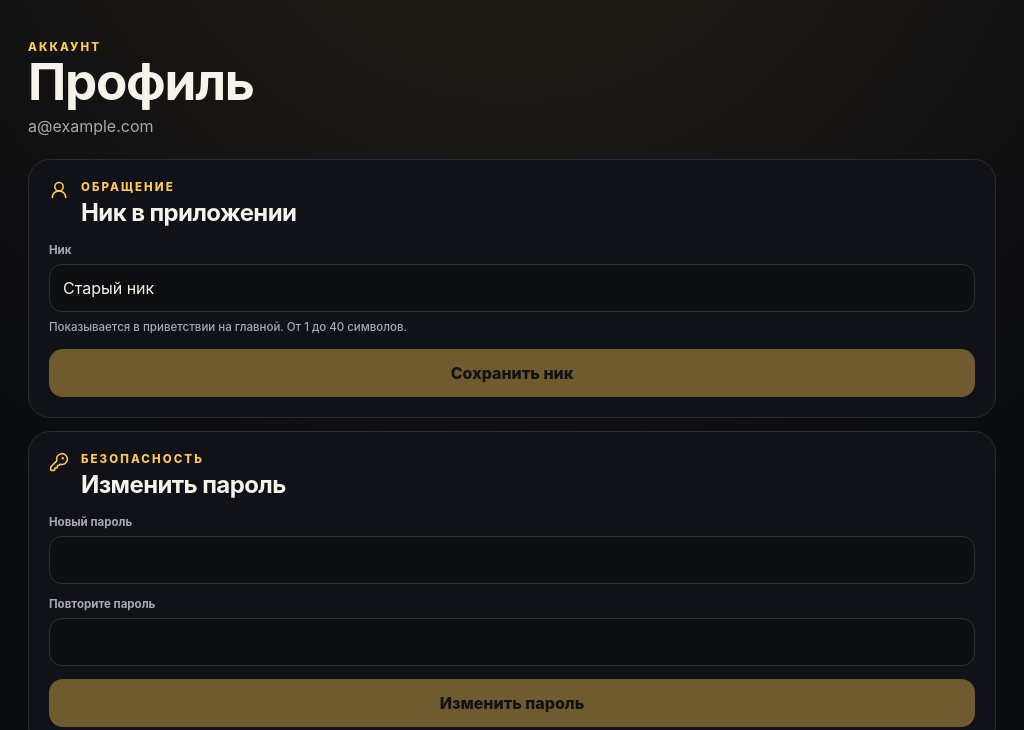
Test: backup and sync controls › changes the nickname used by the application greeting
Replace the text in the field labelled "Ник" with "  Ришат   KZN  " at (512, 288), box [49,264,975,312]
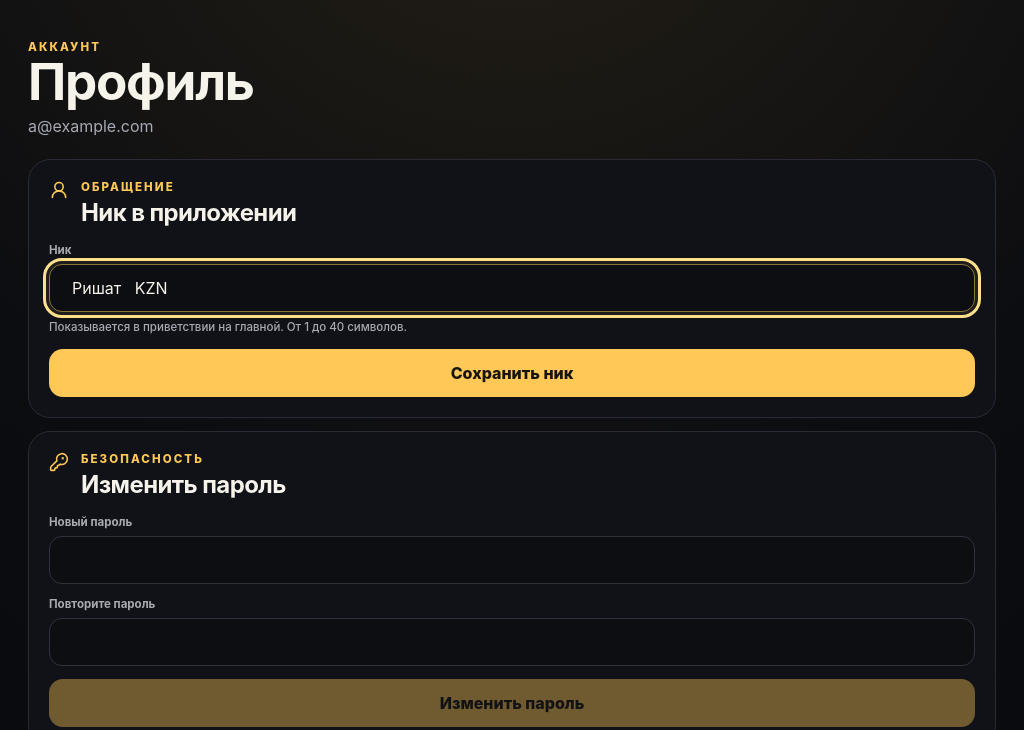
Click the button "Сохранить ник" at (512, 373), box [49,349,975,397]
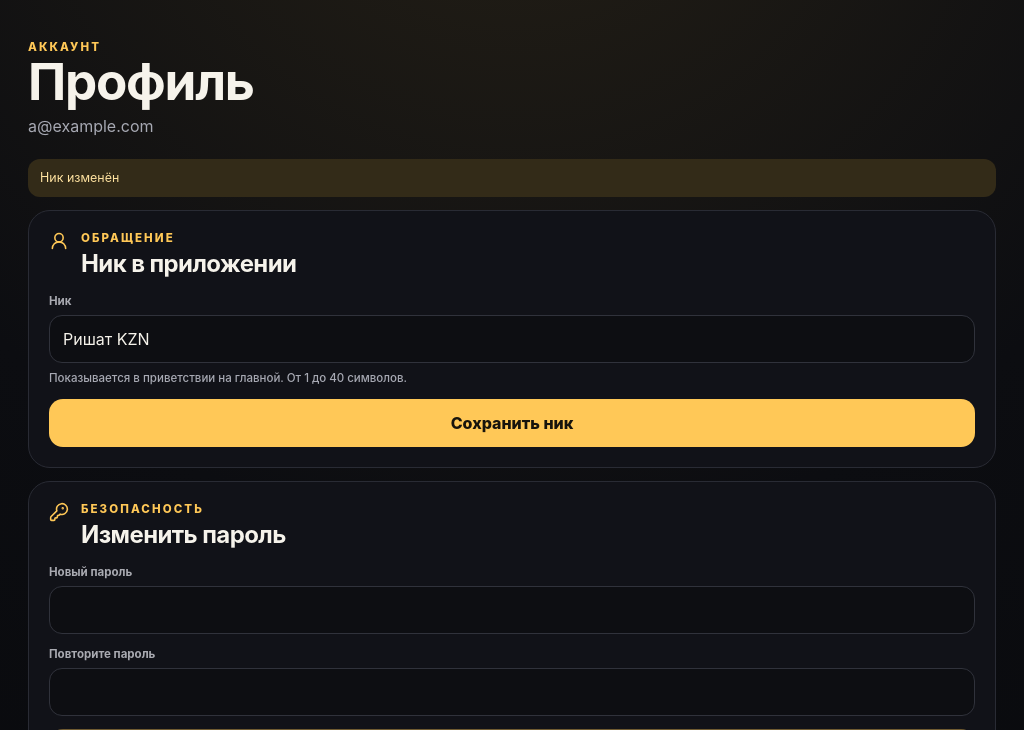
Now the message reads "Ник изменён", box [40,170,119,185]
